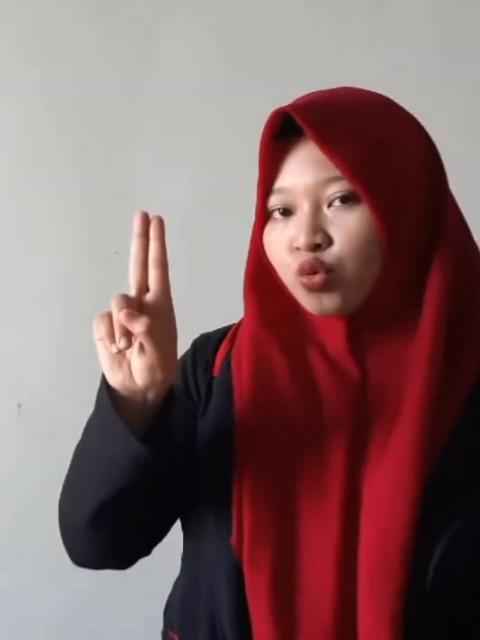U: (87, 200, 185, 402)
